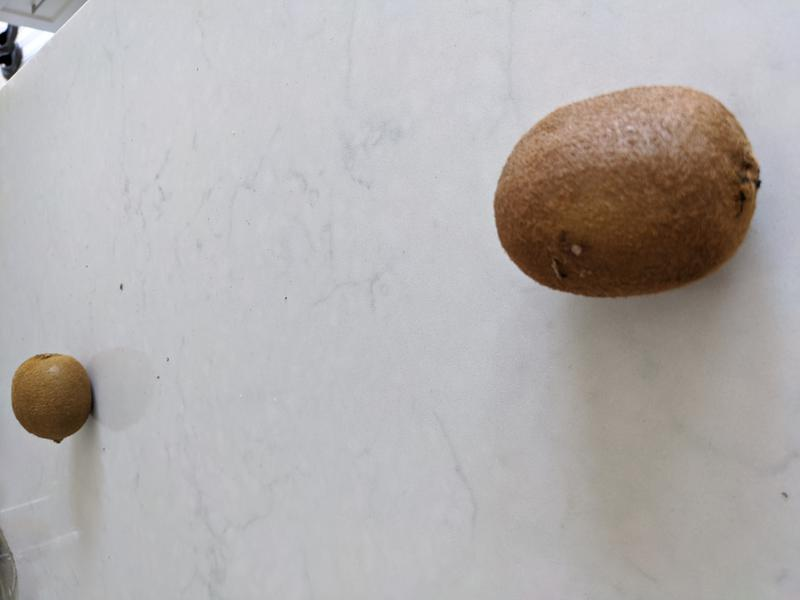kiwi: (494, 84, 759, 299), (9, 351, 94, 442)
